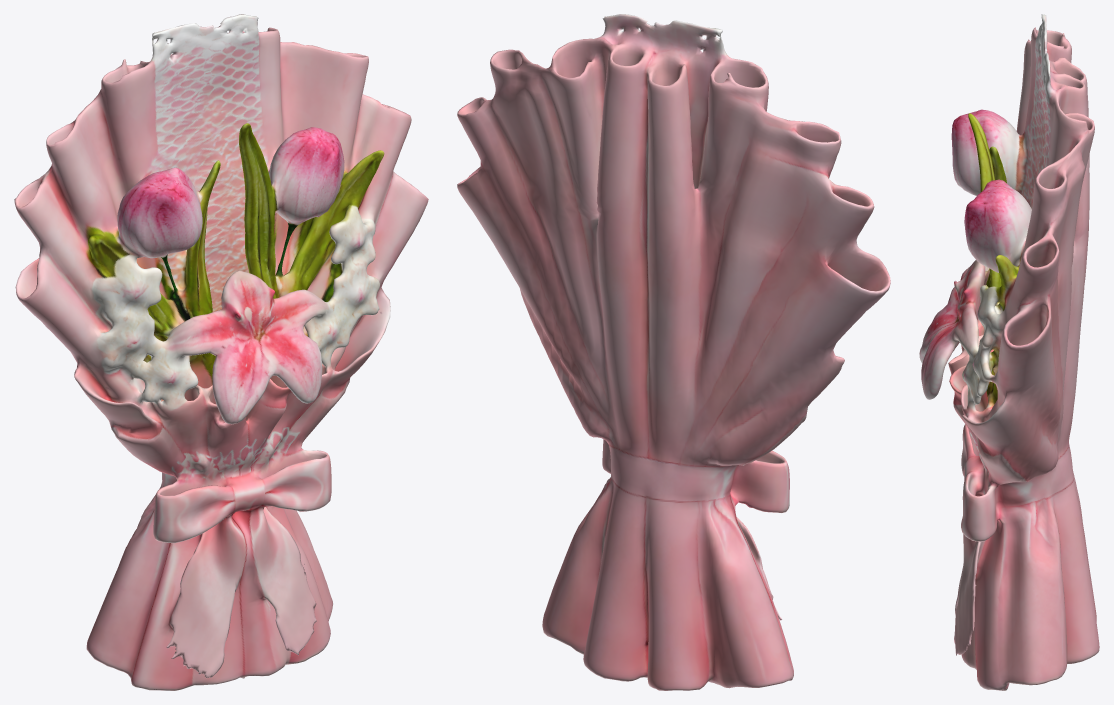
The model's file is bouquet-hero-pbr.glb.
3 renders of one model, left to right at view 1: azimuth 30°, elevation 25°; view 2: azimuth 150°, elevation 25°; view 3: azimuth 270°, elevation 25°, orthographic. The views are drawn at different scales.
Parts seen in each view (by area): view 1: model; view 2: model; view 3: model.
Boxes of the visible parts, x1,y1,x2,y2 form: model: (14, 14, 428, 690); model: (457, 14, 890, 690); model: (919, 14, 1099, 690).
Bounding box in the file's own units: 1.26 × 1.89 × 0.5022.
Materials: 1 (1 with a texture image).
